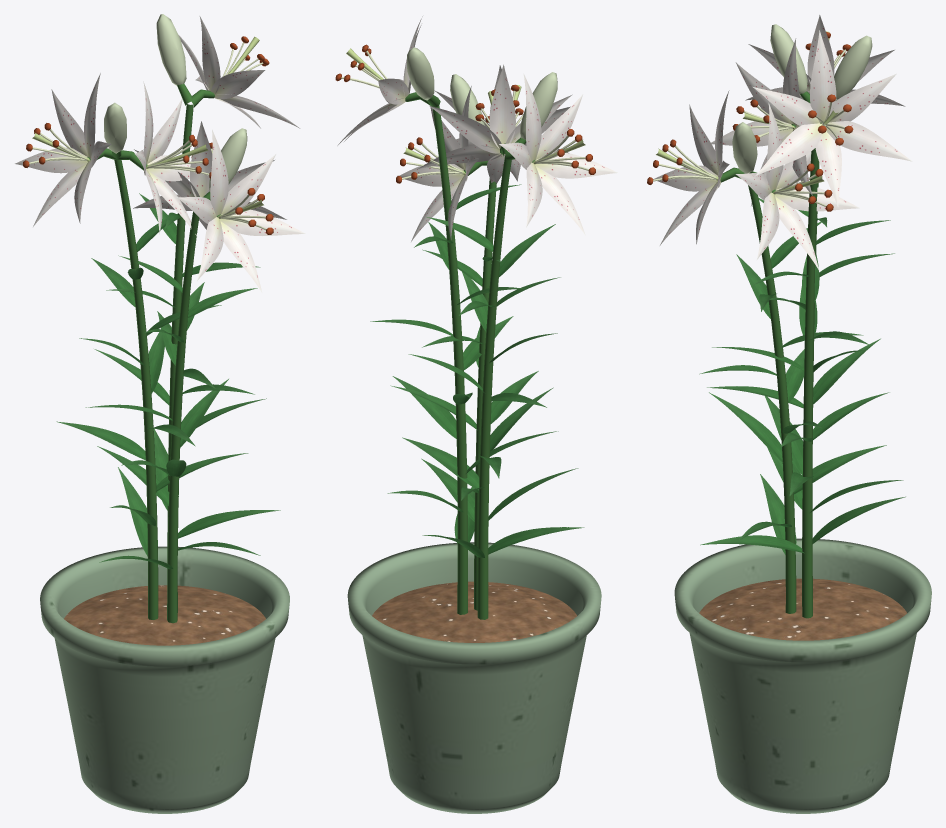
The model's file is lily.glb.
The picture shows the model from 3 angles, left to right: view 1: azimuth 30°, elevation 25°; view 2: azimuth 150°, elevation 25°; view 3: azimuth 270°, elevation 25°; orthographic projection. The views are drawn at different scales.
Parts seen in each view (by area): view 1: piece-0, piece-58, piece-1, piece-49, piece-29, piece-33, piece-13, piece-53, piece-17, piece-37, piece-57, piece-18 (+8 smaller); view 2: piece-0, piece-58, piece-1, piece-29, piece-33, piece-53, piece-13, piece-17, piece-37, piece-57, piece-5, piece-20 (+7 smaller); view 3: piece-0, piece-1, piece-58, piece-13, piece-53, piece-49, piece-33, piece-29, piece-17, piece-37, piece-57, piece-41 (+10 smaller).
Boxes of the visible parts, x1,y1,x2,y2 form: piece-0: [40, 546, 289, 813]; piece-58: [87, 83, 220, 623]; piece-1: [64, 585, 265, 645]; piece-49: [176, 129, 305, 292]; piece-29: [15, 73, 111, 226]; piece-33: [134, 81, 197, 236]; piece-13: [178, 16, 300, 128]; piece-53: [133, 121, 286, 229]; piece-17: [156, 14, 186, 85]; piece-37: [104, 102, 126, 153]; piece-57: [209, 128, 247, 191]; piece-18: [118, 467, 157, 555]; piece-0: [347, 542, 601, 813]; piece-58: [405, 92, 534, 619]; piece-1: [372, 581, 576, 642]; piece-29: [499, 73, 617, 235]; piece-33: [417, 64, 572, 183]; piece-53: [399, 86, 478, 241]; piece-13: [337, 16, 422, 145]; piece-17: [407, 47, 434, 100]; piece-37: [520, 72, 557, 139]; piece-57: [450, 74, 484, 125]; piece-5: [392, 376, 456, 438]; piece-20: [402, 437, 479, 490]; piece-0: [674, 538, 931, 813]; piece-1: [699, 578, 907, 640]; piece-58: [718, 91, 836, 618]; piece-13: [753, 30, 912, 206]; piece-53: [735, 103, 859, 270]; piece-49: [653, 90, 729, 245]; piece-33: [711, 38, 812, 206]; piece-29: [745, 15, 905, 106]; piece-17: [834, 35, 872, 100]; piece-37: [770, 24, 807, 95]; piece-57: [732, 122, 757, 173]; piece-41: [709, 392, 782, 462].
Bounding box in the file's own units: 0.1887 × 0.5433 × 0.1815.
Materials: 9 (4 with a texture image).
